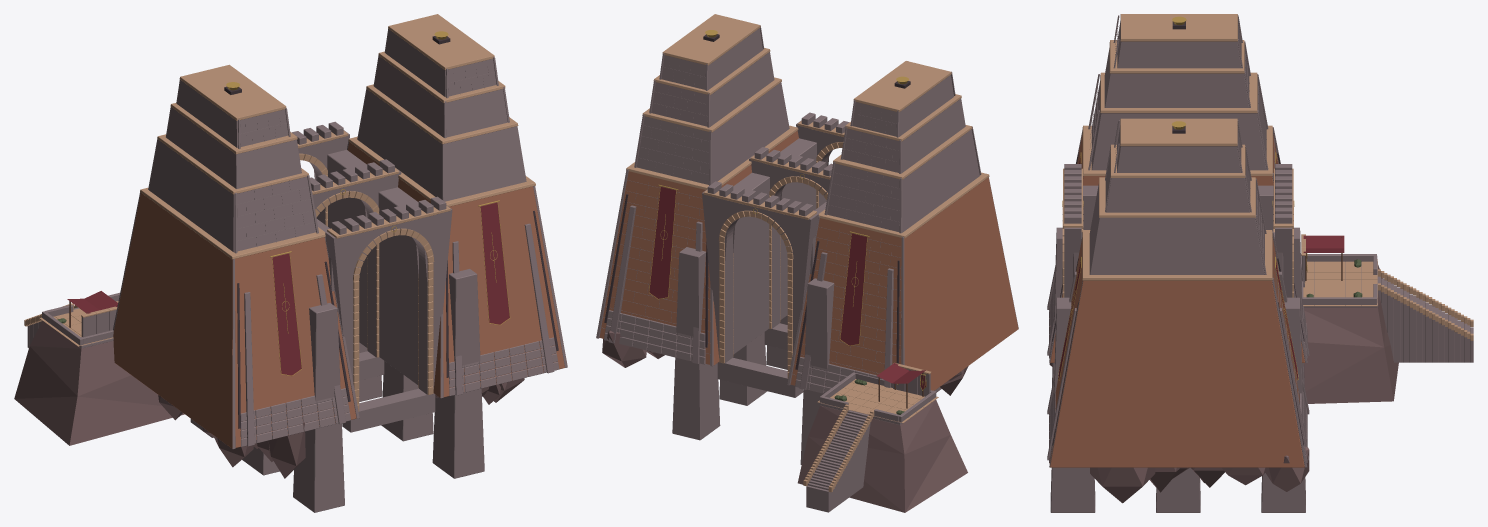
Rendered from gate-of-sighs-v1.glb.
3 renders of one model, left to right at view 1: azimuth 30°, elevation 25°; view 2: azimuth 150°, elevation 25°; view 3: azimuth 270°, elevation 25°, orthographic. The views are drawn at different scales.
Visible parts, largest first — view 1: Gate_stone.016_solid, Gate_brick.016_solid, Gate_edge.016_solid, Gate_rock.016_solid, Gate_cloth.016_detail, Gate_dark.016_solid, Gate_gold.016_detail; view 2: Gate_stone.016_solid, Gate_brick.016_solid, Gate_edge.016_solid, Gate_rock.016_solid, Gate_cloth.016_detail, Gate_stone.016_walk, Gate_edge.016_walk, Gate_dark.016_solid, Gate_gold.016_detail; view 3: Gate_stone.016_solid, Gate_brick.016_solid, Gate_edge.016_solid, Gate_rock.016_solid, Gate_stone.016_walk, Gate_edge.016_walk, Gate_cloth.016_detail, Gate_gold.016_detail, Gate_dark.016_solid.
Part boxes in pixels (x1=…): Gate_stone.016_solid: x1=42, y1=29, x2=567, y2=512; Gate_brick.016_solid: x1=113, y1=142, x2=566, y2=448; Gate_edge.016_solid: x1=24, y1=14, x2=535, y2=411; Gate_rock.016_solid: x1=14, y1=321, x2=524, y2=478; Gate_cloth.016_detail: x1=67, y1=202, x2=509, y2=375; Gate_dark.016_solid: x1=224, y1=36, x2=558, y2=428; Gate_gold.016_detail: x1=226, y1=31, x2=510, y2=376; Gate_stone.016_solid: x1=596, y1=25, x2=1018, y2=464; Gate_brick.016_solid: x1=599, y1=130, x2=1018, y2=390; Gate_edge.016_solid: x1=626, y1=14, x2=989, y2=492; Gate_rock.016_solid: x1=602, y1=330, x2=968, y2=512; Gate_cloth.016_detail: x1=649, y1=187, x2=926, y2=389; Gate_stone.016_walk: x1=806, y1=403, x2=902, y2=512; Gate_edge.016_walk: x1=817, y1=379, x2=938, y2=423; Gate_dark.016_solid: x1=604, y1=34, x2=910, y2=369; Gate_gold.016_detail: x1=649, y1=30, x2=926, y2=390; Gate_stone.016_solid: x1=1047, y1=15, x2=1377, y2=512; Gate_brick.016_solid: x1=1049, y1=134, x2=1304, y2=467; Gate_edge.016_solid: x1=1062, y1=14, x2=1473, y2=340; Gate_rock.016_solid: x1=1049, y1=265, x2=1398, y2=503; Gate_stone.016_walk: x1=1303, y1=261, x2=1473, y2=362; Gate_edge.016_walk: x1=1303, y1=259, x2=1377, y2=306; Gate_cloth.016_detail: x1=1058, y1=156, x2=1344, y2=379; Gate_gold.016_detail: x1=1058, y1=16, x2=1307, y2=380; Gate_dark.016_solid: x1=1052, y1=21, x2=1304, y2=445.
Bounding box in the file's own units: 58.08 × 55.08 × 53.42.
